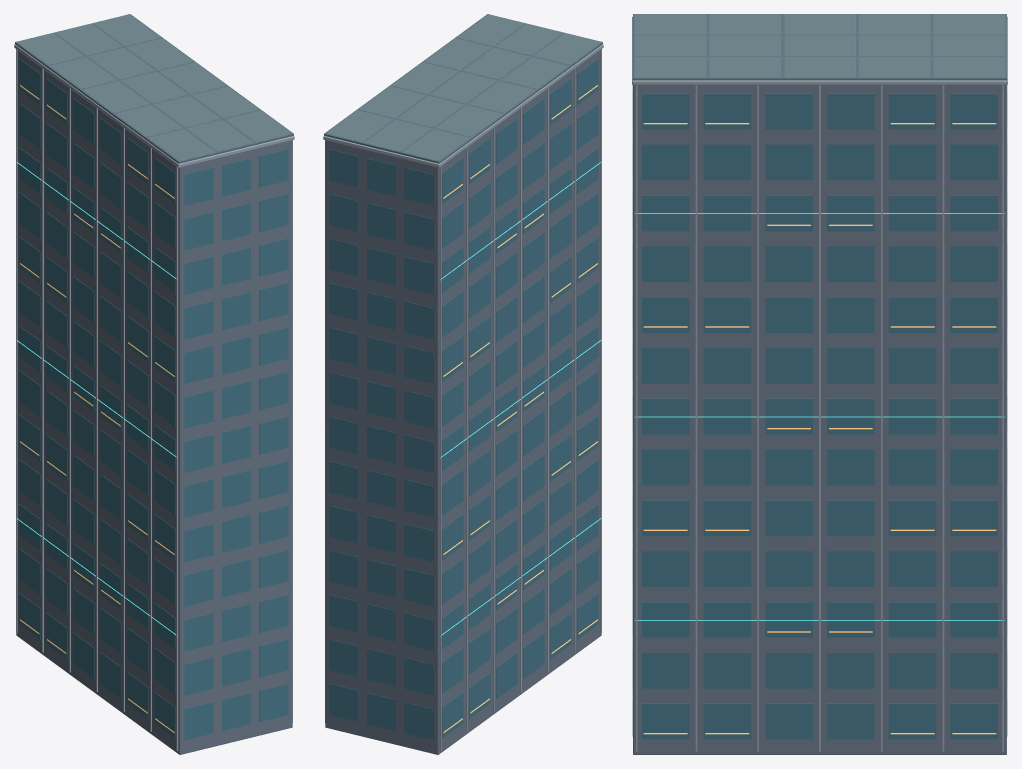
Rendered from skypark-tower.glb.
3 renders of one model, left to right at view 1: azimuth 30°, elevation 25°; view 2: azimuth 150°, elevation 25°; view 3: azimuth 270°, elevation 25°, orthographic. The views are drawn at different scales.
Parts seen in each view (by area): view 1: Occupied side glazing, Forty metre occupied tower, Inset roof panel, Roof cornice, Playable roof, Warm office light, Architectural neon band; view 2: Occupied side glazing, Forty metre occupied tower, Inset roof panel, Roof cornice, Playable roof, Warm office light, Architectural neon band; view 3: Occupied side glazing, Forty metre occupied tower, Inset roof panel, Roof cornice, Playable roof, Warm office light, Architectural neon band.
Part boxes in pixels (<box>): Occupied side glazing: <box>19,58,288,740</box>; Forty metre occupied tower: <box>16,50,292,754</box>; Inset roof panel: <box>17,14,291,160</box>; Roof cornice: <box>14,44,294,750</box>; Playable roof: <box>15,14,293,163</box>; Warm office light: <box>20,85,174,733</box>; Architectural neon band: <box>15,161,293,636</box>; Occupied side glazing: <box>329,58,598,740</box>; Forty metre occupied tower: <box>325,50,601,754</box>; Inset roof panel: <box>326,14,600,160</box>; Roof cornice: <box>323,44,603,750</box>; Playable roof: <box>324,14,602,163</box>; Warm office light: <box>443,85,597,733</box>; Architectural neon band: <box>324,161,602,636</box>; Occupied side glazing: <box>632,85,1007,739</box>; Forty metre occupied tower: <box>633,85,1006,754</box>; Inset roof panel: <box>634,14,1005,77</box>; Roof cornice: <box>632,16,1007,751</box>; Playable roof: <box>633,14,1006,80</box>; Warm office light: <box>643,123,996,734</box>; Architectural neon band: <box>635,213,1004,620</box>.
Bounding box in the file's own units: 8.2 × 40.01 × 20.1.
